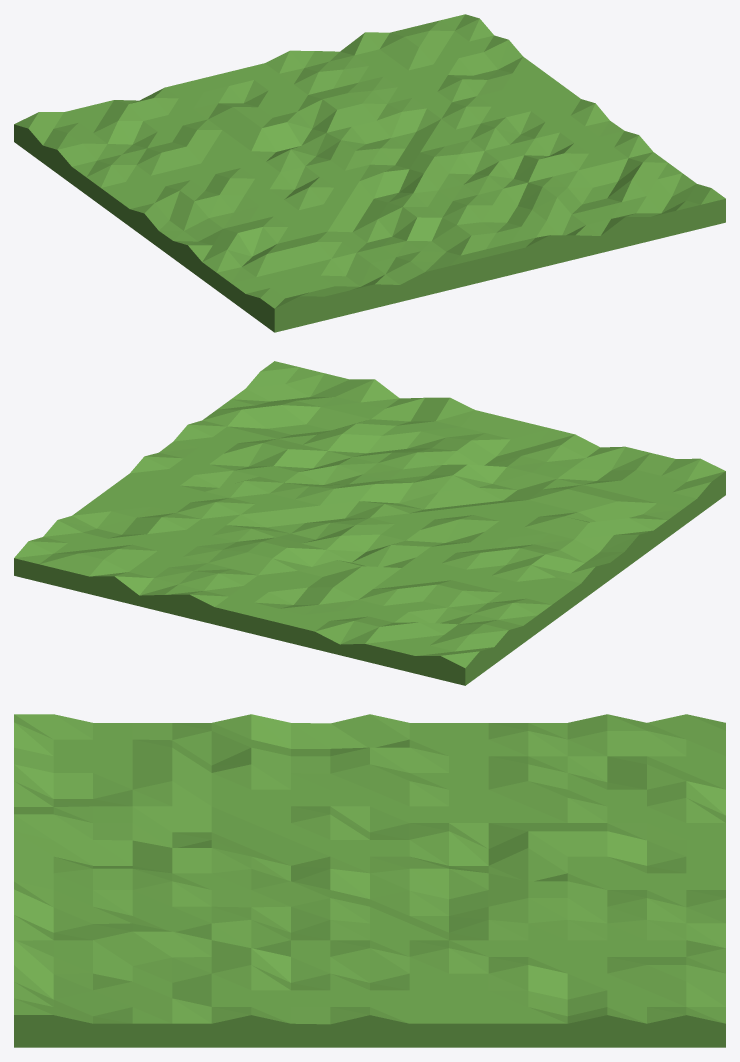
File: green_1.FBX
The picture shows the model from 3 angles, top to bottom: view 1: azimuth 30°, elevation 25°; view 2: azimuth 150°, elevation 25°; view 3: azimuth 270°, elevation 25°; orthographic projection. The views are drawn at different scales.
Parts seen in each view (by area): view 1: Plane001; view 2: Plane001; view 3: Plane001.
Boxes of the visible parts, <box> form: Plane001: <box>14,14,725,332</box>; Plane001: <box>14,361,725,685</box>; Plane001: <box>14,714,725,1047</box>.
Bounding box in the file's own units: 709 × 45.44 × 709.
1 material, 1 textured.
